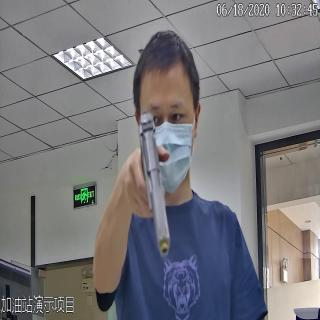gun: (134, 111, 172, 261)
